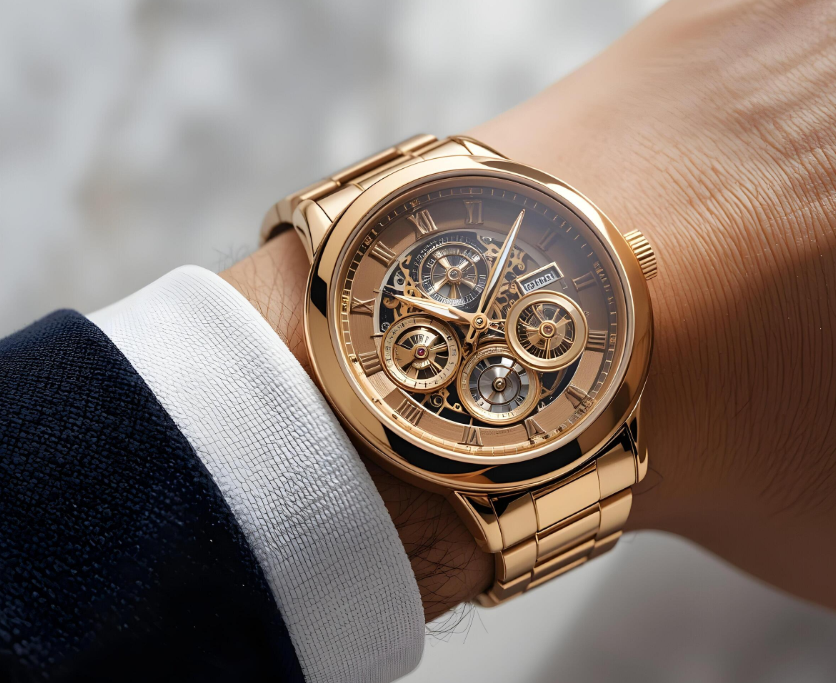Wrist watch: (302, 71, 674, 628)
